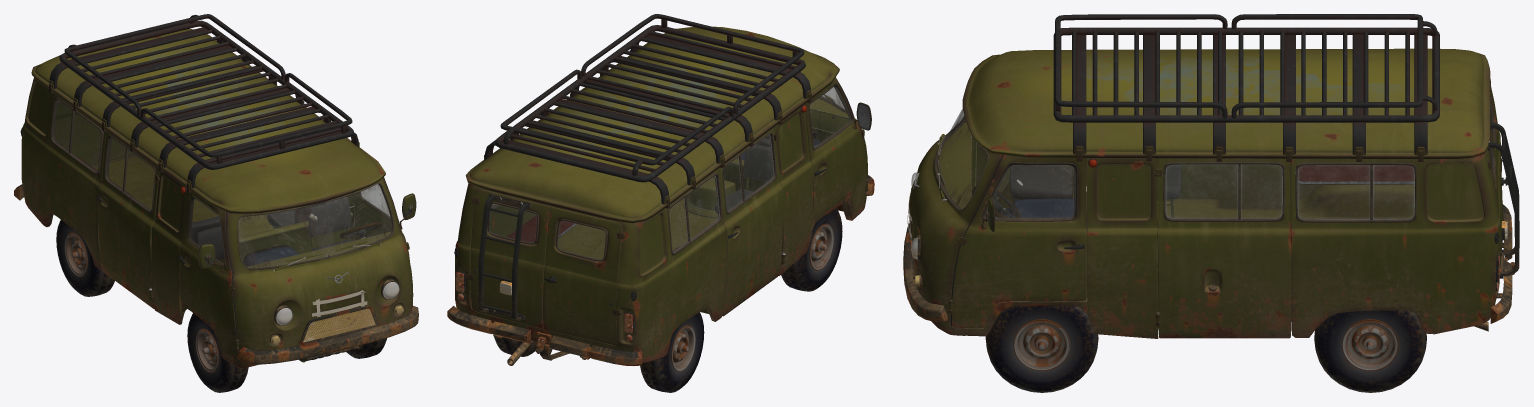
File: uaz_452.glb
The picture shows the model from 3 angles, left to right: view 1: azimuth 30°, elevation 25°; view 2: azimuth 150°, elevation 25°; view 3: azimuth 270°, elevation 25°; orthographic projection. The views are drawn at different scales.
Parts seen in each view (by area): view 1: Top.L, cage.L.001, Windshield.L., panel_1.L, panel_4.L, panel_3.L, dor_F.L, Wheel, panel_2.L, Front_bumper.L, Flor.L, seat_F.L (+10 smaller); view 2: cage.L.001, Top.L, panel_4.L, Windshield.L., dor_B_2.L, panel_3.L, Wheel, dor_B_1.L, panel_2.L, dor_F.L, rear, Flor.L (+10 smaller); view 3: Top.L, panel_4.L, cage.L.001, Windshield.L., panel_3.L, Wheel, dor_F.L, panel_2.L, panel_1.L, Flor.L, panel.L, bench.L (+7 smaller).
Part boxes in pixels (x1,y1,x2,y2): Top.L: (31, 28, 385, 213); cage.L.001: (49, 14, 359, 192); Windshield.L.: (50, 97, 399, 270); panel_1.L: (227, 178, 413, 368); panel_4.L: (21, 77, 137, 269); panel_3.L: (97, 131, 159, 309); dor_F.L: (179, 177, 405, 360); Wheel: (56, 220, 386, 392); panel_2.L: (151, 171, 355, 324); Front_bumper.L: (236, 306, 418, 364); Flor.L: (93, 156, 273, 237); seat_F.L: (196, 196, 355, 259); cage.L.001: (484, 14, 811, 208); Top.L: (465, 26, 839, 223); panel_4.L: (455, 168, 727, 362); Windshield.L.: (488, 83, 854, 261); dor_B_2.L: (543, 206, 622, 345); panel_3.L: (718, 127, 784, 316); Wheel: (494, 208, 842, 392); dor_B_1.L: (470, 189, 549, 328); panel_2.L: (774, 104, 812, 275); dor_F.L: (804, 77, 866, 220); rear: (447, 306, 642, 365); Flor.L: (471, 198, 843, 304); Top.L: (962, 48, 1490, 158); panel_4.L: (1290, 118, 1500, 337); cage.L.001: (1053, 14, 1439, 161); Windshield.L.: (934, 96, 1495, 222); panel_3.L: (1157, 158, 1291, 338); Wheel: (985, 305, 1426, 392); dor_F.L: (952, 143, 1086, 328); panel_2.L: (1086, 158, 1158, 338); panel_1.L: (909, 121, 1001, 335); Flor.L: (998, 175, 1416, 296); panel.L: (938, 122, 976, 208); bench.L: (1295, 165, 1414, 196).
Bounding box in the file's own units: 2.41 × 2.42 × 4.7.
Materials: 3 (3 with a texture image).
